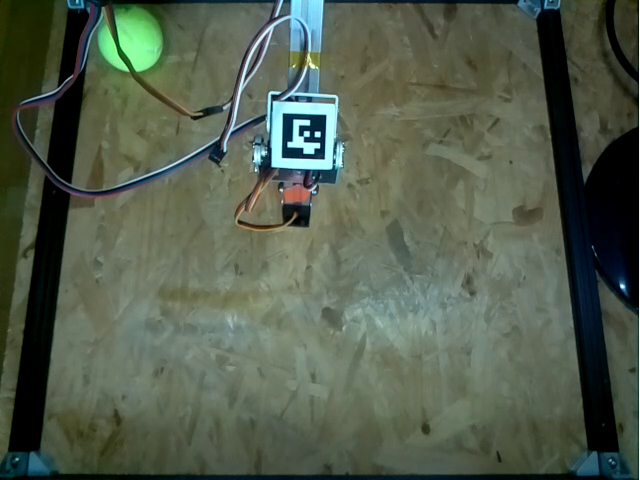tennis_ball: (98, 7, 164, 71)
